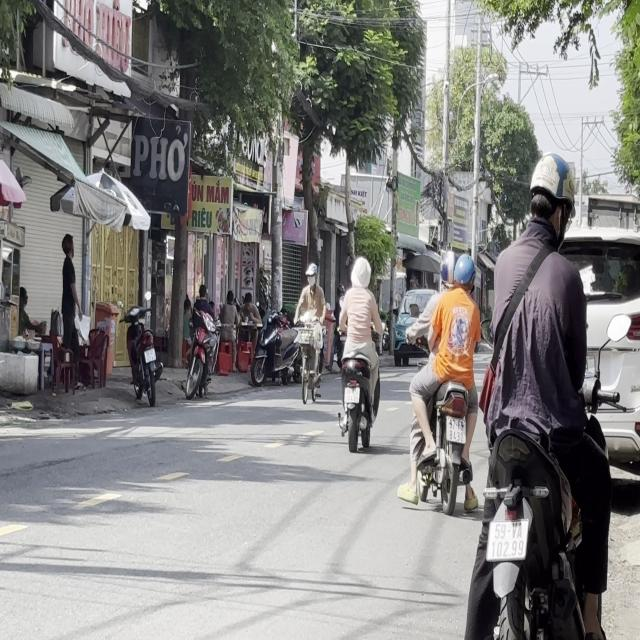helmet: (525, 152, 573, 244), (452, 252, 476, 294), (439, 253, 454, 289)
licenseplate: (460, 149, 622, 634), (404, 248, 484, 513), (336, 254, 384, 450)
motorcyclist: (350, 255, 371, 288)
nohelmet: (487, 519, 527, 559), (446, 416, 466, 443), (344, 386, 360, 404)
